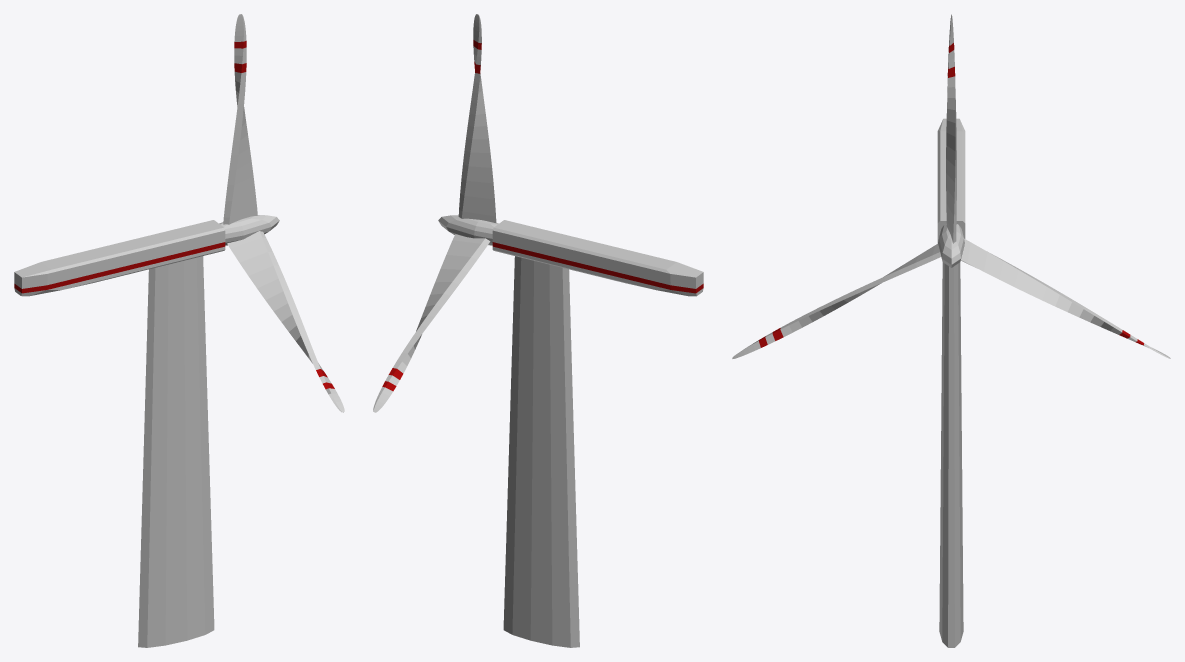
Rendered from WindMill_Collision.fbx.
The picture shows the model from 3 angles, left to right: view 1: azimuth 30°, elevation 25°; view 2: azimuth 150°, elevation 25°; view 3: azimuth 270°, elevation 25°; orthographic projection. The views are drawn at different scales.
Visible parts, largest first — view 1: Windmill_Collision; view 2: Windmill_Collision; view 3: Windmill_Collision.
Part boxes in pixels (x1=…): Windmill_Collision: x1=14, y1=14, x2=344, y2=647; Windmill_Collision: x1=373, y1=14, x2=703, y2=647; Windmill_Collision: x1=732, y1=14, x2=1170, y2=647.
Size of the model in its own units: 30.36 by 67.38 by 41.33.
